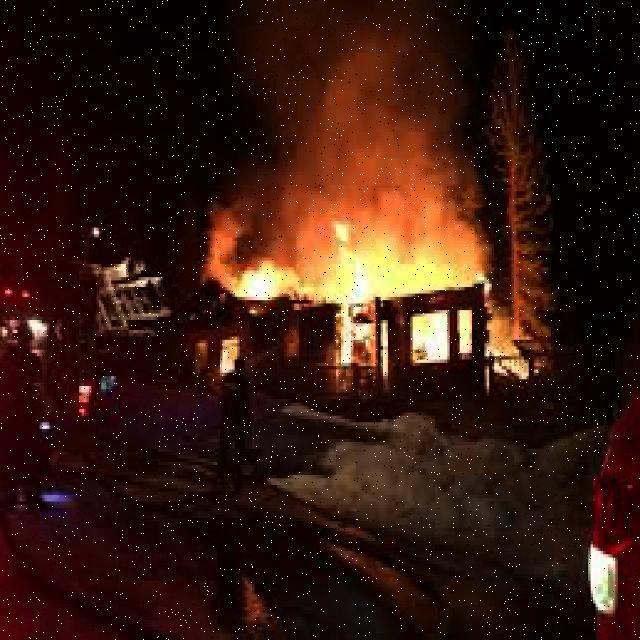fire: (328, 228, 500, 384), (232, 254, 312, 320)
